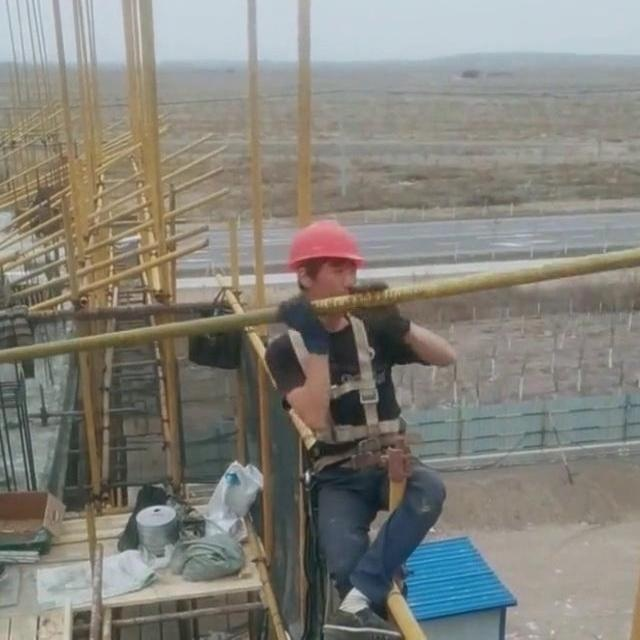Arnes_seguridad: (278, 304, 408, 450)
